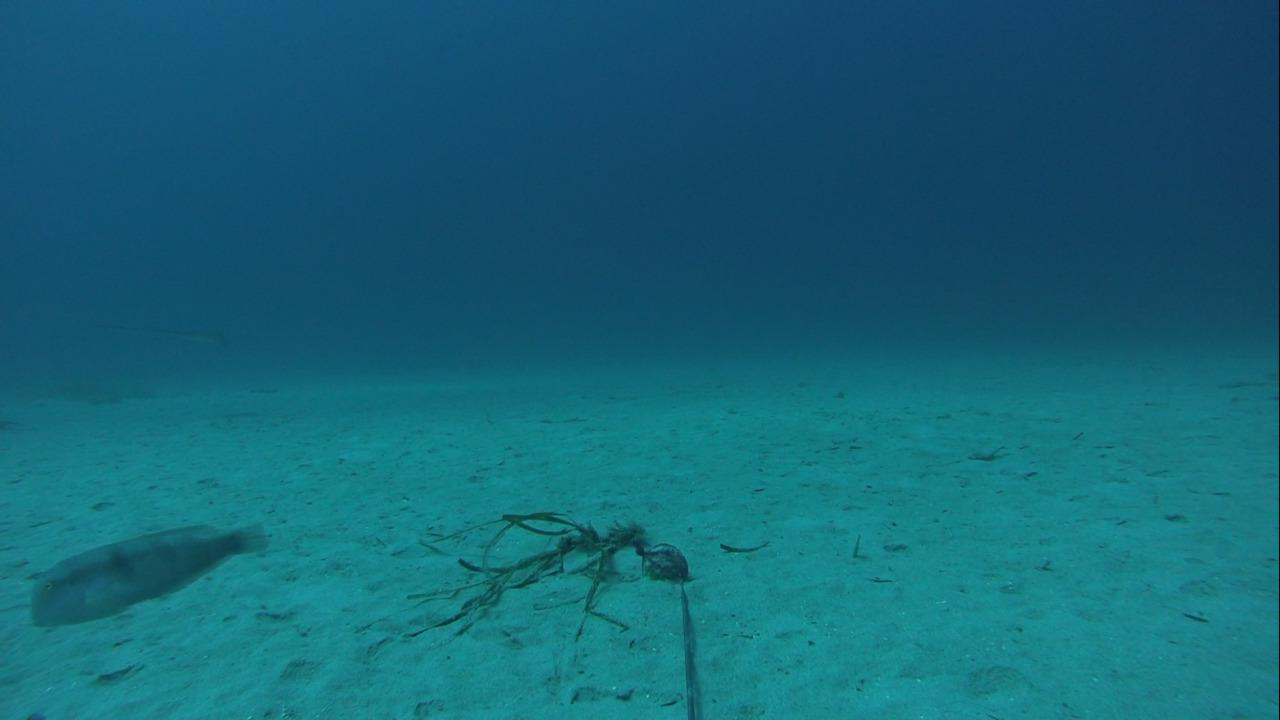myliobatis: (81, 302, 240, 365)
raor: (25, 511, 272, 626)
